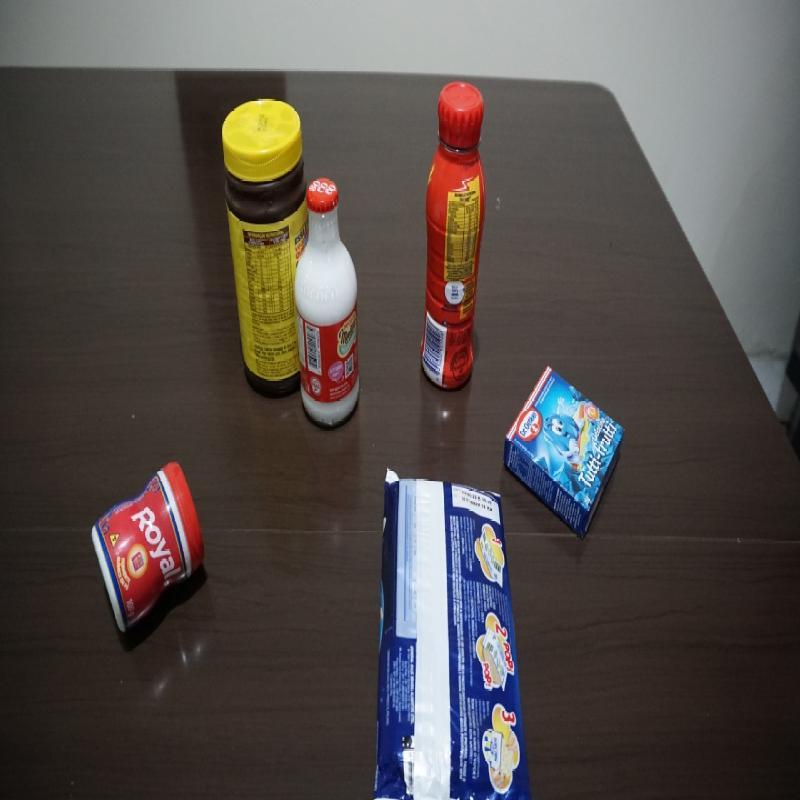Chocolate Milk: (419, 80, 488, 394)
Chocolate Powder: (220, 97, 317, 405)
Coconut Milk: (292, 173, 364, 434)
Gelatine: (503, 365, 626, 542)
Popcorn: (372, 467, 535, 799)
Yeast: (89, 460, 206, 639)
